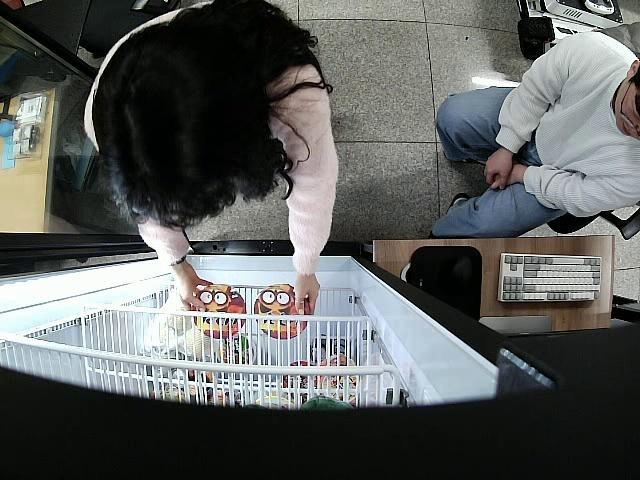05_nuguri_L: (254, 284, 312, 340), (194, 285, 247, 340)
